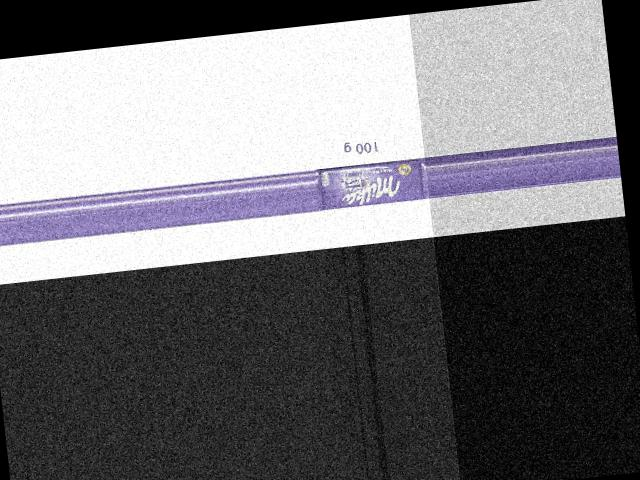chocolate: (312, 150, 426, 211)
